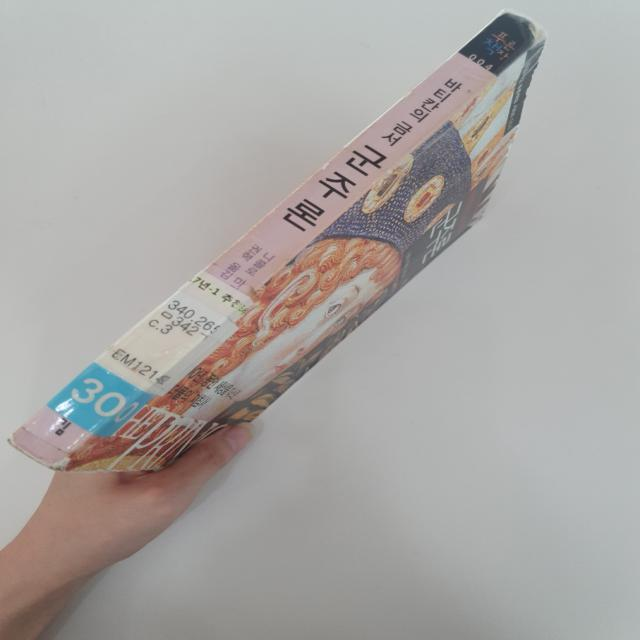Ripped: (516, 12, 553, 59)
Wornout: (5, 430, 77, 471), (67, 461, 139, 481), (307, 149, 344, 180)
